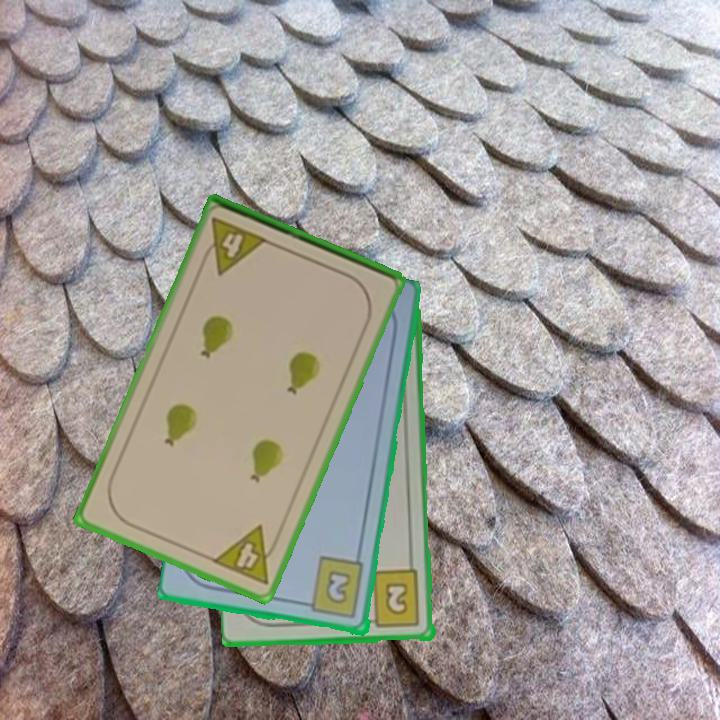2b: (299, 554, 367, 622), (362, 568, 423, 630)
4p: (208, 522, 284, 588), (197, 214, 271, 278)
